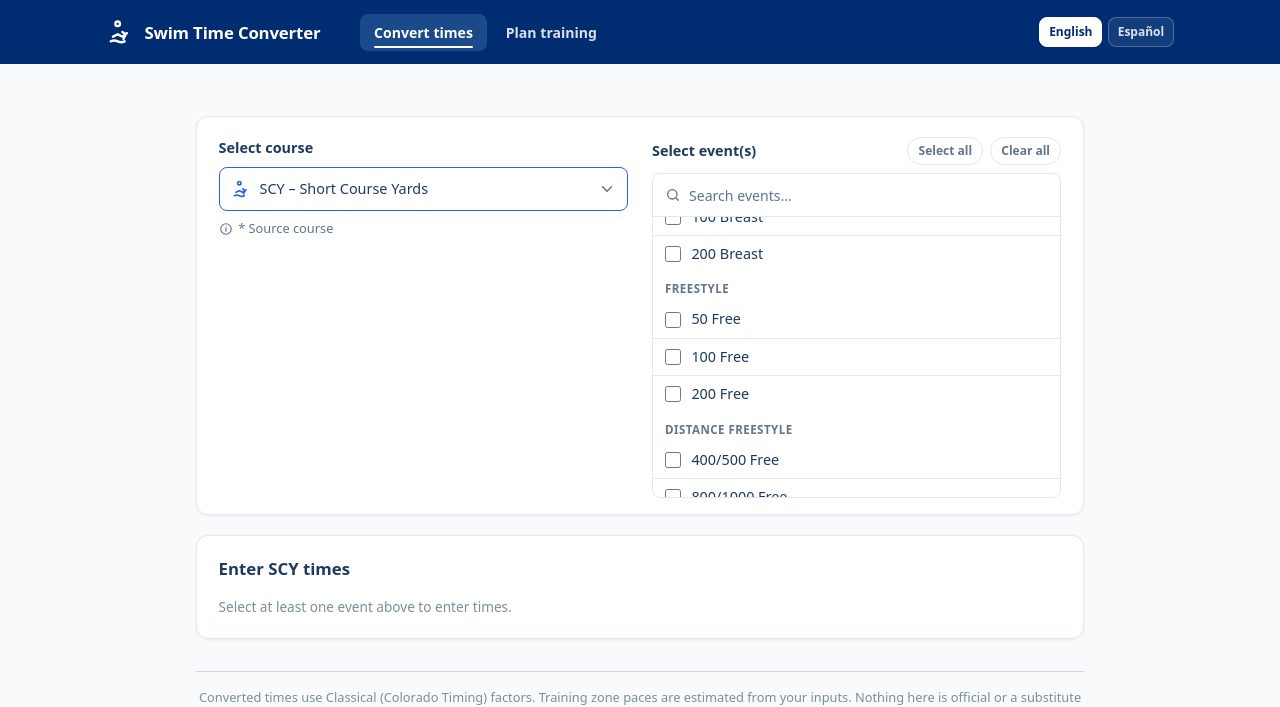
it: App manual conversion flow › fills time fields when a meet time is pasted
This screenshot has width=1280, height=707.
(page scrolled)
Click the checkbox labelled "100 Free" at (673, 357), box [665,349,681,365]
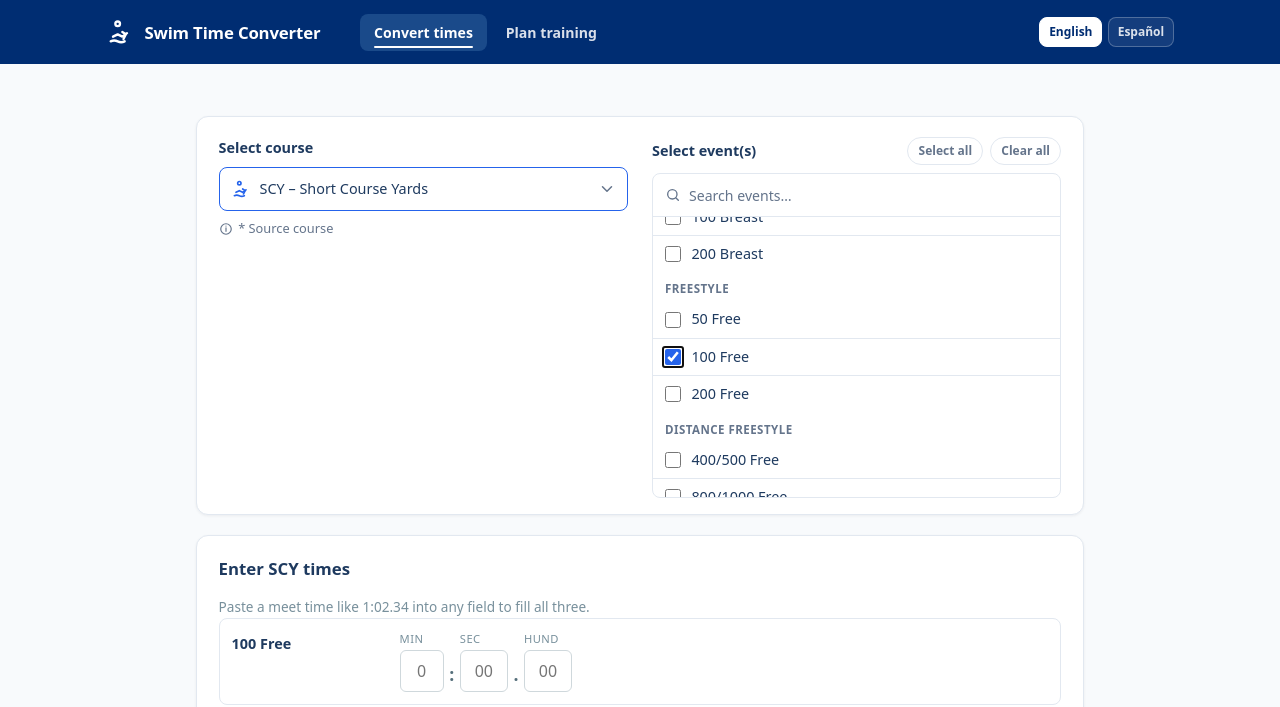
Click the field labelled "Sec" at (484, 671), box [460,650,508,692]
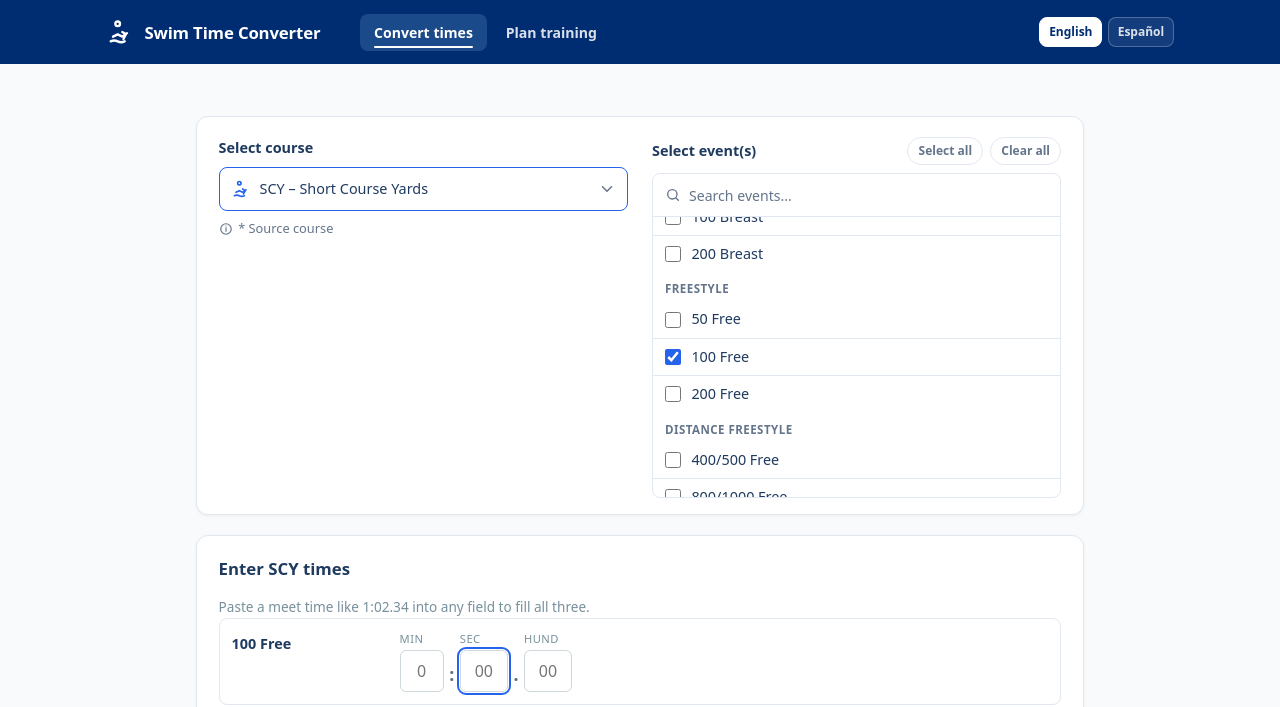
Type keys "1:02.34"
(page scrolled)
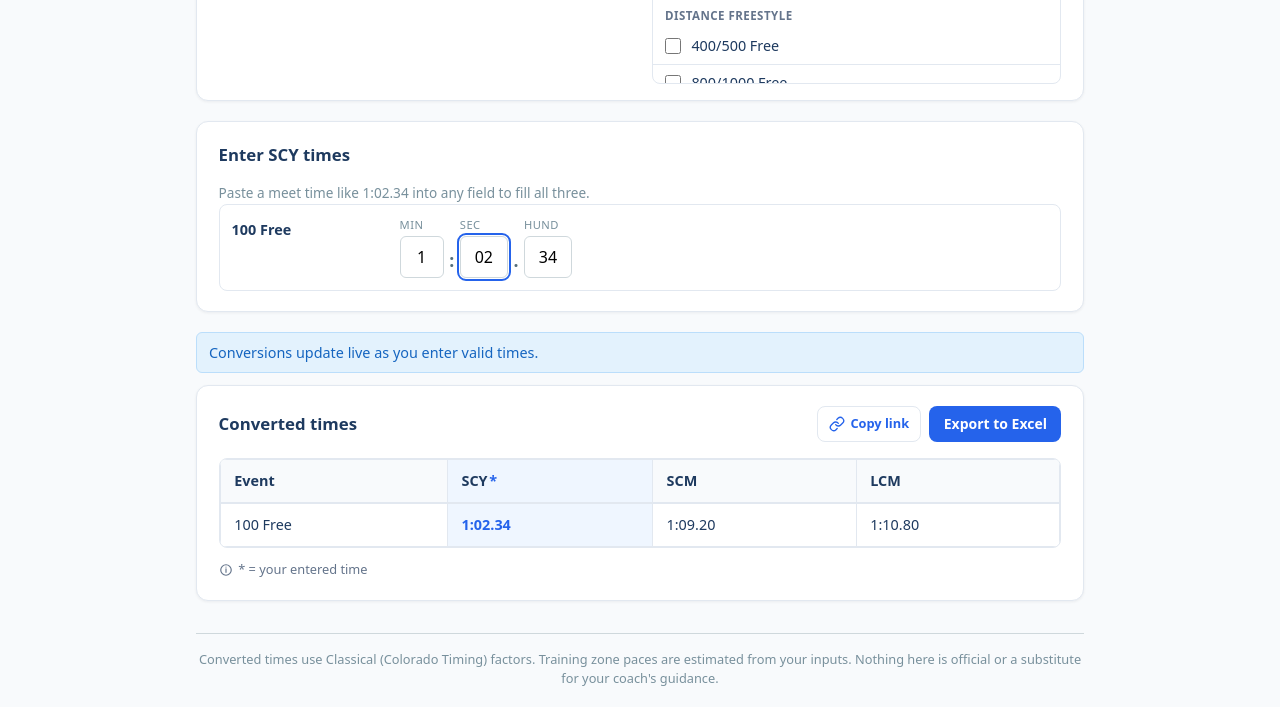
Result: the text "1:10.80" is shown at [856,503,1060,547]
